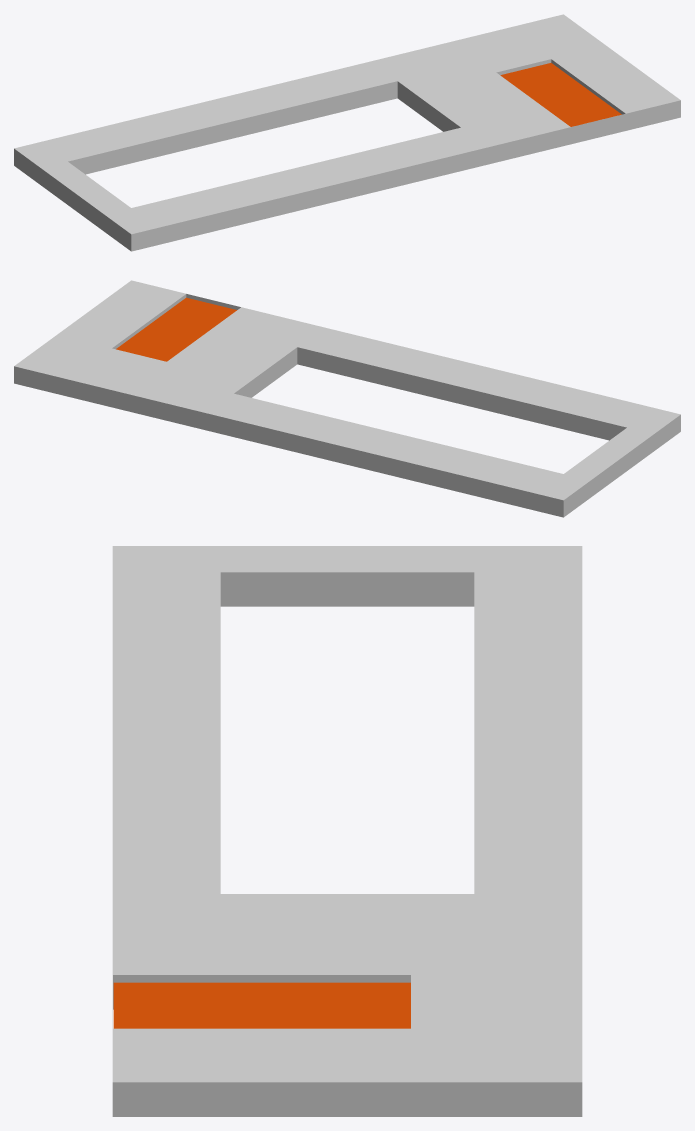
File: wall-back.fbx
3 views of the same model, one above another, from view 1: azimuth 30°, elevation 25°; view 2: azimuth 150°, elevation 25°; view 3: azimuth 270°, elevation 25° (orthographic). The views are drawn at different scales.
Parts seen in each view (by area): view 1: Plane, Cube; view 2: Plane, Cube; view 3: Plane, Cube.
Boxes of the visible parts, x1,y1,x2,y2 form: Plane: [14, 14, 680, 251]; Cube: [500, 63, 621, 126]; Plane: [14, 280, 680, 517]; Cube: [116, 297, 236, 361]; Plane: [112, 546, 582, 1116]; Cube: [113, 982, 410, 1028].
Size of the model in its own units: 2000 by 60 by 740.
